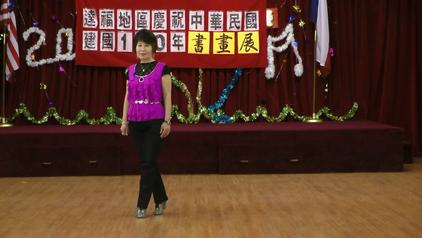stay: (113, 25, 174, 204)
